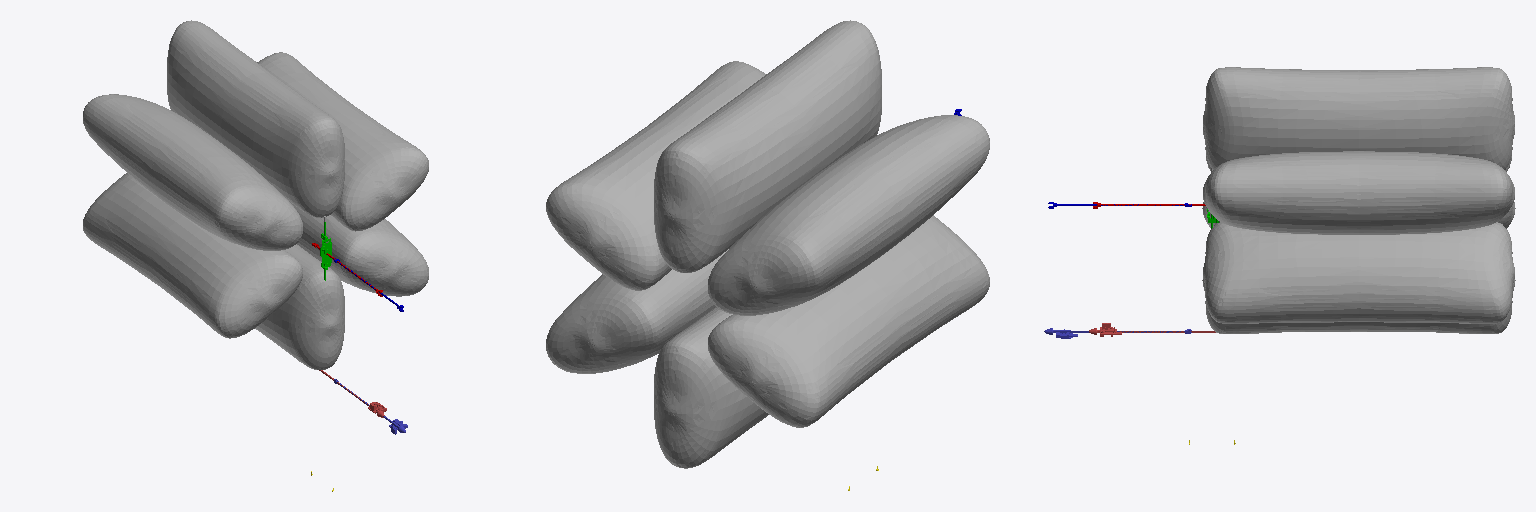
robot.urdf — ballu:
<?xml version="1.0" encoding="utf-8"?>
<!-- This URDF was automatically created by SolidWorks to URDF Exporter! Originally created by [author] ([email redacted]) Commit Version: 1.6.0-1-g15f4949 Build Version: 1.6.7594.29634 For more information, please see
http://wiki.ros.org/sw_urdf_exporter -->

<!--
┏━━━━━┓┏━━━━━━┳━┓    ┏━┓    ┏━┓  ┏━┓
┃ ┏━┓ ┃┃ ┏━━┓ ┃ ┃    ┃ ┃    ┃ ┃  ┃ ┃
┃ ┗━┛ ┗┫ ┃  ┃ ┃ ┃    ┃ ┃    ┃ ┃  ┃ ┃
┃ ┏━━┓ ┃ ┗━━┛ ┃ ┃  ┏━┫ ┃  ┏━┫ ┃  ┃ ┃
┃ ┗━━┛ ┃ ┏━━┓ ┃ ┗━━┛ ┃ ┗━━┛ ┃ ┗━━┛ ┃
┗━━━━━━┻━┛  ┗━┻━━━━━━┻━━━━━━┻━━━━━━┛
-->

<robot name="ballu">
  <!-- ============================== -->
  <!--        LINK DEFINITIONS        -->
  <!-- ============================== -->
  <link name="base_link"></link>
  <link name="PELVIS">
    <inertial>
      <origin xyz="-0.00044 0.00002 -0.0039" rpy="0 0 0"/><mass value="0.02127"/><inertia ixx="2.394281E-05" iyy="2.165260E-06" izz="2.361908E-05" ixy="1.327084E-08" ixz="7.820202E-08" iyz="1.342177E-08"/>
    </inertial>
    <visual>
      <origin xyz="0 0 0" rpy="0 0 0"/>
      <geometry><mesh filename="../meshes/PELVIS.obj"/></geometry>
      <material name="color_pelvis" />
    </visual>
    <collision>
      <origin xyz="0 0 0" rpy="1.57079632679 0 0"/>
      <geometry><cylinder radius="0.005" length="0.15"/></geometry>
    </collision>
  </link>


  <link name="FEMUR_LEFT">
    <inertial>
      <origin xyz="-0.00005 0.17956 0" rpy="0 0 0"/><mass value="0.00944"/><inertia ixx="1.705039E-04" iyy="1.024278E-07" izz="1.704907E-04" ixy="-8.965456E-08" ixz="0.000000E+00" iyz="5.521509E-09"/>
      <!-- <origin xyz="-0.00005 0.17956 0" rpy="0 0 0"/><mass value="0.00944"/><inertia ixx="7.386170666673715e-05" iyy="4.0277333337080584e-07" izz="7.386170666669967e-05"/> -->
    </inertial>
    <visual>
      <origin xyz="0 0 0" rpy="0 0 0"/>
      <geometry><mesh filename="../meshes/FEMUR_LEFT.obj"/></geometry>
      <material name="color_femur_left" />
    </visual>
    <collision>
      <origin xyz="0 0.185 0" rpy="1.57079632679 0 0"/>
      <geometry><cylinder radius="0.005" length="0.3"/></geometry>
    </collision>
  </link>
  <link name="FEMUR_RIGHT">
    <inertial>
      <origin xyz="-0.00005 0.17956 0" rpy="0 0 0"/><mass value="0.00944"/><inertia ixx="1.705039E-04" iyy="1.024278E-07" izz="1.704907E-04" ixy="-8.965456E-08" ixz="0.000000E+00" iyz="5.521509E-09"/>
      <!-- <origin xyz="-0.00005 0.17956 0" rpy="0 0 0"/><mass value="0.00944"/><inertia ixx="7.386170666673715e-05" iyy="4.0277333337080584e-07" izz="7.386170666669967e-05"/> -->
    </inertial>
    <visual>
      <origin xyz="0 0 0" rpy="0 0 0"/>
      <geometry><mesh filename="../meshes/FEMUR_RIGHT.obj"/></geometry>
      <material name="color_femur_right" />
    </visual>
    <collision>
      <origin xyz="0 0.185 0" rpy="1.57079632679 0 0"/>
      <geometry><cylinder radius="0.005" length="0.3"/></geometry>
    </collision>
  </link>


  <link name="TIBIA_LEFT">
    <inertial>
      <origin xyz="0.0068 0.22605 -0.00419" rpy="0 0 0"/><mass value="0.04367"/><inertia ixx="1.554562E-04" iyy="5.653536E-06" izz="1.589192E-04" ixy="2.581390E-06" ixz="2.577077E-07" iyz="-2.545764E-06"/>
      <!-- <origin xyz="0.0068 0.22605 -0.00419" rpy="0 0 0"/><mass value="0.04367"/><inertia ixx="1.5536330333355247E-04" iyy="1.8632533334496604e-06" izz="1.5536330333343614E-04"/> -->
    </inertial>
    <visual>
      <origin xyz="0 0 0" rpy="0 0 0"/>
      <geometry><mesh filename="../meshes/TIBIA_LEFT.obj"/></geometry>
      <material name="color_tibia_left" />
    </visual>
    <collision> <!-- TIBIA_LEFT -->
      <origin xyz="0 0.15 0" rpy="1.57079632679 0 0"/>
      <geometry><cylinder radius="0.005" length="0.2"/></geometry>
      <contact_coefficients mu="0.9" />
    </collision>
    <collision> <!-- FOOT_LEFT -->
      <origin xyz="0 0.38485 0" rpy="1.57079632679 0 0"/> <!-- 0.38085 <origin xyz="0 0 0.004" rpy="0 0 0"/>-->
      <geometry><sphere radius="0.004" /></geometry>
      <contact_coefficients mu="0.9" />
    </collision>
  </link>
  <link name="TIBIA_RIGHT">
    <inertial>
      <!-- <origin xyz="0.00711 0.22605 0.00419" rpy="0 0 0"/><mass value="0.04367"/><inertia ixx="1.554534E-04" iyy="5.712977E-06" izz="1.589759E-04" ixy="2.700721E-06" ixz="-1.398425E-07" iyz="2.544418E-06"/> -->
      <origin xyz="0.0068 0.22605 -0.00419" rpy="0 0 0"/><mass value="0.04367"/><inertia ixx="1.554562E-04" iyy="5.653536E-06" izz="1.589192E-04" ixy="2.581390E-06" ixz="2.577077E-07" iyz="-2.545764E-06"/>
      <!-- <origin xyz="0.0068 0.22605 -0.00419" rpy="0 0 0"/><mass value="0.04367"/><inertia ixx="1.5536330333355247E-04" iyy="1.8632533334496604e-06" izz="1.5536330333343614E-04"/> -->
    </inertial>
    <visual>
      <origin xyz="0 0 0" rpy="0 0 0"/>
      <geometry><mesh filename="../meshes/TIBIA_RIGHT.obj"/></geometry>
      <material name="color_tibia_right" />
    </visual>
    <collision> <!-- TIBIA_RIGHT -->
      <origin xyz="0 0.15 0" rpy="1.57079632679 0 0"/>
      <geometry><cylinder radius="0.005" length="0.2"/></geometry>
      <contact_coefficients mu="0.9" />
    </collision>
    <collision> <!-- FOOT_RIGHT -->
      <origin xyz="0 0.38485 0" rpy="1.5707963267949 0 0"/> <!-- 0.38085 <origin xyz="0 0 0.004" rpy="0 0 0"/>-->
      <geometry><sphere radius="0.004"/></geometry>
      <contact_coefficients mu="0.9" />
    </collision>
  </link>


  <link name="MOTORARM_LEFT">
    <inertial>
      <origin xyz="0.00168 0 -0.00063" rpy="0 0 0" /><mass value="0.00016" /><inertia ixx="4.000000E-10" iyy="1.600000E-09" izz="1.730000E-09" ixy="0.000000E+00" ixz="1.700000E-10" iyz="0.000000E+00" />
    </inertial>
    <visual>
      <origin xyz="0 0 0" rpy="0 0 0"/>
      <geometry><mesh filename="../meshes/MOTORARM_LEFT.obj"/></geometry>
      <material name="color_motorarm" />
    </visual>
    <collision>
      <origin xyz="0 0 0" rpy="0 0 1.57079632679"/>
      <geometry><box size="0.004 0.012 0.002"/></geometry>
    </collision>
  </link>
  <link name="MOTORARM_RIGHT">
    <inertial>
      <origin xyz="0.00168 0 -0.00063" rpy="0 0 0" /><mass value="0.00016" /><inertia ixx="4.000000E-10" iyy="1.600000E-09" izz="1.730000E-09" ixy="0.000000E+00" ixz="1.700000E-10" iyz="0.000000E+00" />
      <!-- <origin xyz="-0.00006 -0.37953 0" rpy="0 0 0" /><mass value="0.15898" /><inertia ixx="1.421434E-02" iyy="1.025578E-02" izz="1.420794E-02" ixy="-3.811700E-06" ixz="0.000000E+00" iyz="0.000000E+00" /> -->
    </inertial>
    <visual>
      <origin xyz="0 0 0" rpy="0 0 0"/>
      <geometry><mesh filename="../meshes/MOTORARM_RIGHT.obj"/></geometry>
      <material name="color_motorarm" />
    </visual>
    <collision>
      <origin xyz="0 0 0" rpy="0 0 1.57079632679"/>
      <geometry><box size="0.004 0.012 0.002"/></geometry>
    </collision>
  </link>


  <link name="BALLOON">
    <inertial>
      <origin xyz="-0.00006 -0.37953 0" rpy="0 0 0"/>
      <mass value="0.15898"/>
      <inertia ixx="1.421434E-02" iyy="1.025578E-02" izz="1.420794E-02" ixy="-3.811700E-06" ixz="0.000000E+00" iyz="0.000000E+00"/>
    </inertial>
    <visual>
      <origin xyz="0 0 0" rpy="0 0 0"/>
      <geometry><mesh filename="../meshes/BALLOON.obj"/></geometry>
      <material name="color_balloons" />
    </visual>
    <collision>
      <origin xyz="0 -0.38 0" rpy="1.57079632679 0 0"/>
      <geometry><cylinder radius="0.32" length="0.7"/></geometry>
    </collision>
  </link>


  <!-- ============================== -->
  <!--        JOINT DEFINITIONS       -->
  <!-- ============================== -->
  <joint name="floating_joint" type="floating">
    <origin xyz="0 0 0" rpy="0 0 0"/>
    <parent link="base_link"/>
    <child link="PELVIS"/>
  </joint>

  <!-- Kinematic Joints -->
  <joint name="HIP_LEFT" type="revolute">
    <origin xyz="0 0.058025 0" rpy="-1.57079632679 0 0"/>
    <parent link="PELVIS"/>
    <child link="FEMUR_LEFT"/>
    <axis xyz="0 0 1"/>
    <limit lower="-1.57079632679" upper="1.57079632679" effort="0" velocity="0"/>
    <dynamics damping="1e-2" friction="1e-2" />
  </joint>
  <joint name="HIP_RIGHT" type="revolute">
    <origin xyz="0 -0.058025 0" rpy="-1.57079632679 0 0"/>
    <parent link="PELVIS"/>
    <child link="FEMUR_RIGHT"/>
    <axis xyz="0 0 1"/>
    <limit lower="-1.57079632679" upper="1.57079632679" effort="0" velocity="0"/>
    <dynamics damping="1e-2" friction="1e-2" />
  </joint>

  <joint name="KNEE_LEFT" type="revolute">
    <origin xyz="0 0.36501 0" rpy="0 0 0"/>
    <parent link="FEMUR_LEFT"/>
    <child link="TIBIA_LEFT"/>
    <axis xyz="0 0 1"/>
    <!-- <limit lower="0.47124" upper="0.7854" effort="0" velocity="0"/> -->
    <limit lower="0" upper="1.7453292519943295" effort="0" velocity="0"/>
    <dynamics damping="1e-2" friction="1e-2" />
  </joint>
  <joint name="KNEE_RIGHT" type="revolute">
    <origin xyz="0 0.36501 0" rpy="0 0 0"/>
    <parent link="FEMUR_RIGHT"/>
    <child link="TIBIA_RIGHT"/>
    <axis xyz="0 0 1"/>
    <!-- <limit lower="0.47124" upper="0.7854" effort="0" velocity="0"/> -->
    <limit lower="0" upper="1.7453292519943295" effort="0" velocity="0"/>
    <dynamics damping="1e-2" friction="1e-2" />
  </joint>

  <joint name="MOTOR_LEFT" type="revolute">
    <origin xyz="-0.008375 0.32732 0.001" rpy="-3.14159265359 0 -1.57079632679"/>
    <parent link="TIBIA_LEFT"/>
    <child link="MOTORARM_LEFT"/>
    <axis xyz="0 0 1"/>
    <!-- <limit lower="0" upper="3.14159265359" effort="0" velocity="0"/> -->
    <limit lower="0" upper="1.57079632679" effort="0" velocity="0"/>
    <dynamics damping="0" friction="0" />
  </joint>
  <joint name="MOTOR_RIGHT" type="revolute">
    <origin xyz="-0.008375 0.32732 -0.001" rpy="3.14159265359 0 -1.57079632679"/>
    <parent link="TIBIA_RIGHT"/>
    <child link="MOTORARM_RIGHT"/>
    <axis xyz="0 0 1"/>
    <!-- <limit lower="0" upper="3.14159265359" effort="0" velocity="0"/> -->
    <limit lower="0" upper="1.57079632679" effort="0" velocity="0"/>
    <dynamics damping="0" friction="0" />
  </joint>

  <joint name="NECK" type="revolute">
    <origin xyz="0.0044439 0 0.015" rpy="-1.57079632679 0 0"/>
    <parent link="PELVIS"/>
    <child link="BALLOON"/>
    <axis xyz="0 0 1"/>
    <limit lower="-1.57079632679" upper="1.57079632679" effort="0" velocity="0"/>
    <dynamics damping="0" friction="0" />
  </joint>


  <!-- Link Colors -->
  <material name="color_pelvis"><color rgba="0 0.8 0 1"/></material>
  <material name="color_femur_left"><color rgba="0.8 0 0 1"/></material>
  <material name="color_femur_right"><color rgba="0 0 0.8 1"/></material>
  <material name="color_tibia_left"><color rgba="0.75 0.3 0.3 1"/></material>
  <material name="color_tibia_right"><color rgba="0.3 0.3 0.75 1"/></material>
  <material name="color_motorarm"><color rgba="1 0.93725 0.13725 1"/></material>
  <material name="color_balloons"><color rgba="0.7 0.7 0.7 0.7"/></material>
</robot>


<!-- pi = 3.14159265359, pi/2=1.57079632679, pi/3=1.0471975512, pi/4=0.78539816339, pi/6=0.52359877559 -->

--- Render facts (derived) ---
Views: 3 orthographic renders of the robot side by side, from view 1: azimuth 30°, elevation 25°; view 2: azimuth 150°, elevation 25°; view 3: azimuth 270°, elevation 25°.
Model ballu with 9 links and 8 joints (7 revolute, 1 floating), rooted at base_link, posed all joints at 0.
Visible links, largest first — view 1: BALLOON; view 2: BALLOON; view 3: BALLOON.
Boxes of the visible links, x1,y1,x2,y2 form: BALLOON: (83, 20, 428, 369); BALLOON: (546, 20, 989, 468); BALLOON: (1202, 67, 1515, 333).
Size in the robot's own frame: 0.6751 by 1.23 by 1.09 metres.
8 mesh visuals loaded from 8 distinct referenced files (8 OBJ).
